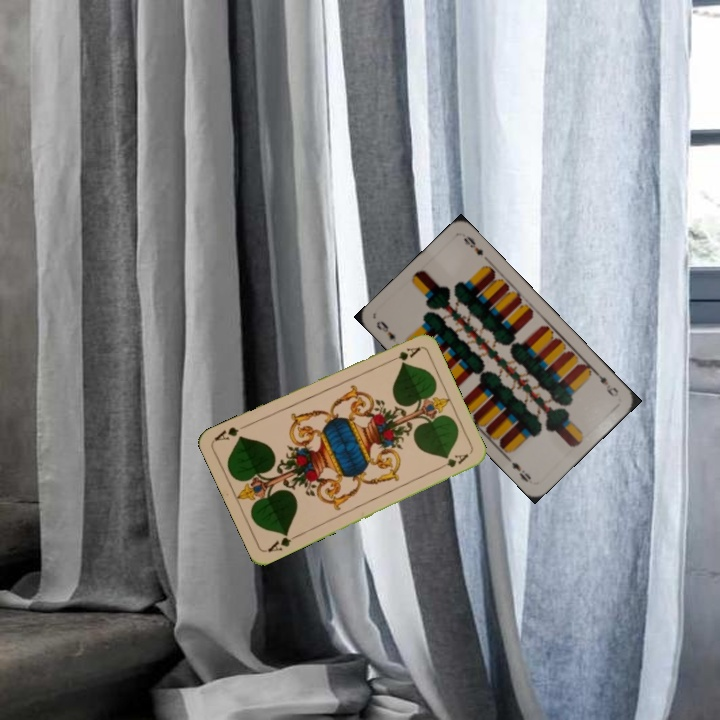E9: (590, 367, 621, 399), (372, 317, 399, 345)
GA: (263, 528, 301, 555), (383, 343, 423, 365)
